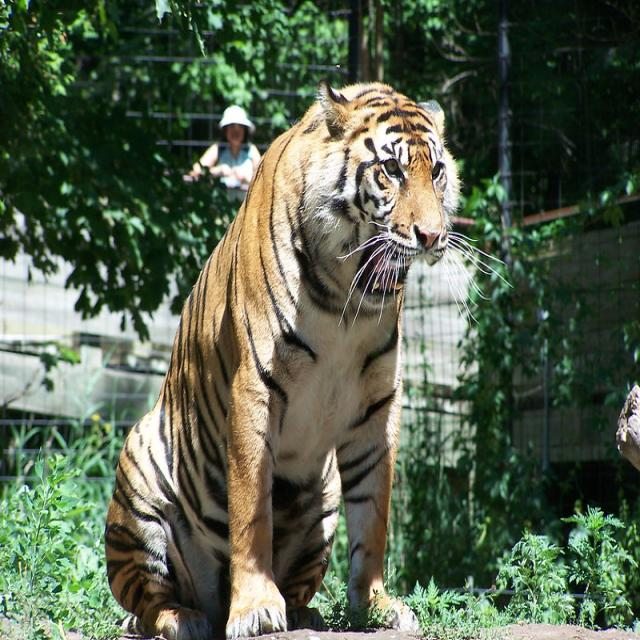Tiger: (102, 76, 468, 639)
